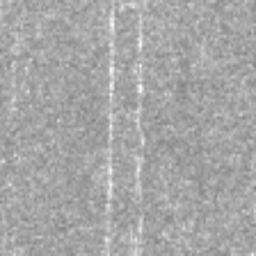Bright scratch: (104, 0, 115, 256), (135, 15, 145, 256)
